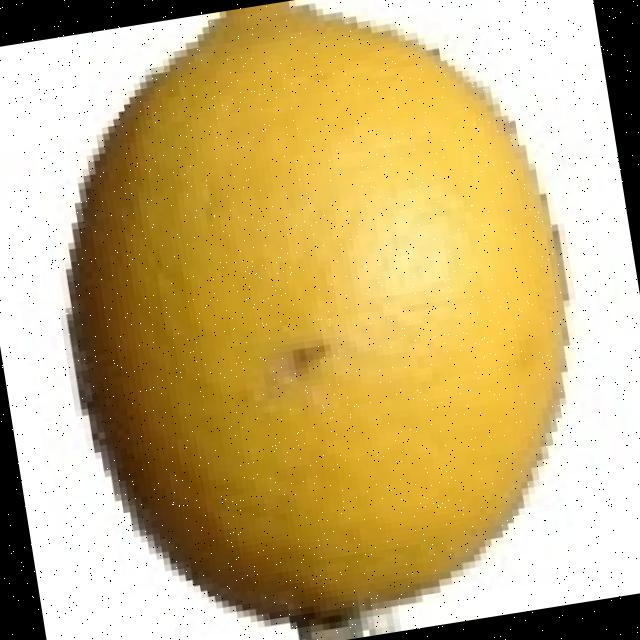lemon: (69, 1, 565, 632)
